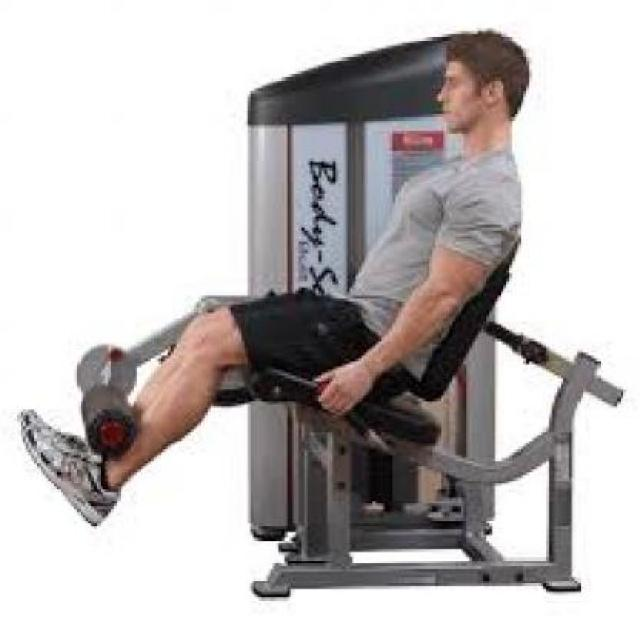leg extension: (12, 17, 638, 640)
